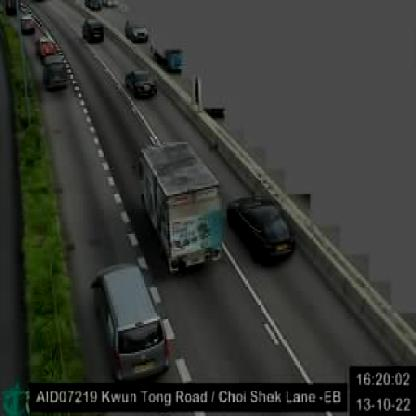Car: (90, 263, 170, 386), (228, 196, 296, 266), (125, 68, 156, 98), (44, 54, 67, 92), (83, 16, 104, 43), (125, 22, 149, 45), (20, 14, 36, 36), (36, 37, 55, 54)
Truck: (136, 140, 224, 274)
